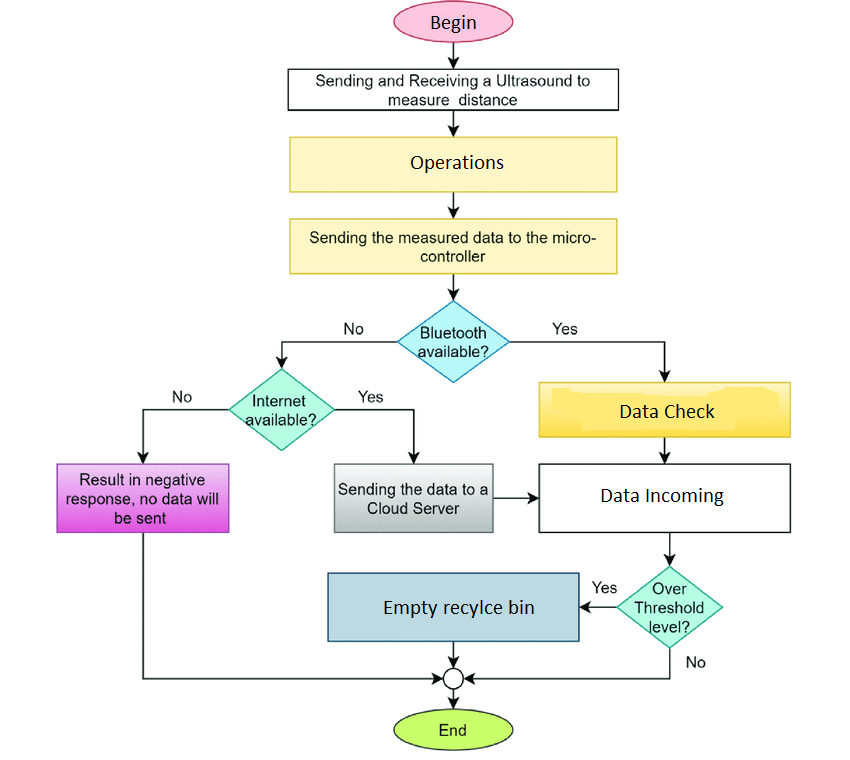arrow: (137, 529, 443, 688), (463, 645, 676, 683), (502, 338, 672, 385), (136, 406, 233, 467), (331, 406, 424, 463), (275, 338, 402, 373), (491, 489, 541, 505), (656, 433, 675, 465), (578, 599, 617, 614), (661, 532, 677, 566), (444, 38, 461, 69), (444, 107, 462, 136), (446, 271, 462, 302), (445, 188, 460, 220), (446, 637, 461, 667), (448, 686, 459, 712)
connection: (438, 666, 469, 694)
decision: (397, 298, 513, 383), (612, 563, 726, 648), (228, 365, 333, 452)
process: (284, 131, 621, 197), (285, 214, 621, 277), (323, 568, 584, 648), (535, 458, 795, 536), (535, 378, 795, 442), (284, 66, 622, 115), (53, 459, 235, 536), (330, 459, 498, 537)
terminator: (391, 707, 517, 754), (390, 1, 517, 44)
text: (313, 71, 592, 109), (309, 229, 602, 265), (63, 471, 221, 525), (336, 478, 492, 517), (632, 581, 709, 635), (380, 596, 537, 619), (415, 323, 492, 362), (597, 485, 726, 508), (243, 392, 318, 430), (406, 152, 507, 174), (616, 401, 720, 420), (428, 13, 479, 33), (435, 720, 471, 739), (589, 577, 620, 598), (355, 388, 389, 405), (548, 319, 579, 337), (170, 384, 194, 405), (341, 320, 366, 339), (684, 653, 707, 670)
